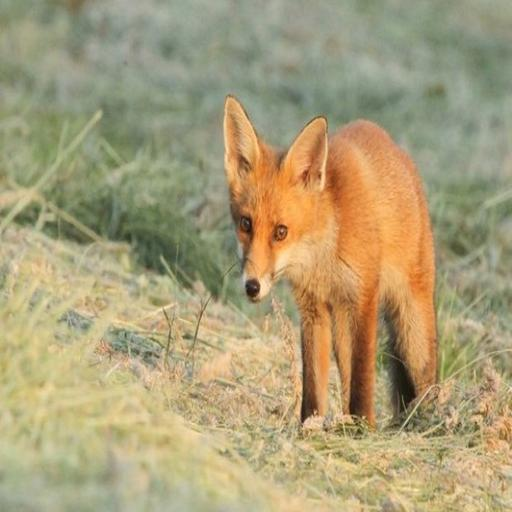Fox: (216, 90, 446, 443)
